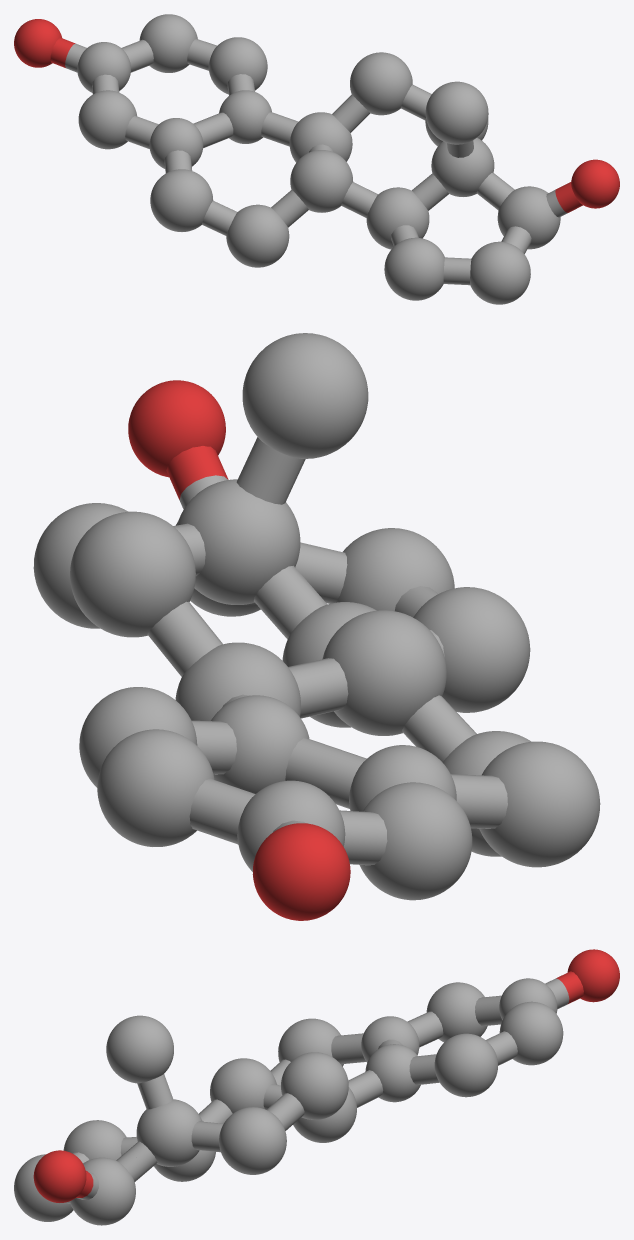
File: Estradiol.glb
The picture shows the model from 3 angles, top to bottom: view 1: azimuth 30°, elevation 25°; view 2: azimuth 150°, elevation 25°; view 3: azimuth 270°, elevation 25°; orthographic projection. The views are drawn at different scales.
Visible parts, largest first — view 1: atoms, bonds; view 2: atoms, bonds; view 3: atoms, bonds.
Boxes of the visible parts, x1,y1,x2,y2 form: atoms: [14, 14, 619, 304]; bonds: [50, 38, 582, 285]; atoms: [33, 333, 600, 920]; bonds: [147, 437, 507, 865]; atoms: [14, 949, 619, 1225]; bonds: [63, 971, 583, 1203].
Size of the model in its own units: 7.28 by 3.67 by 10.06.
